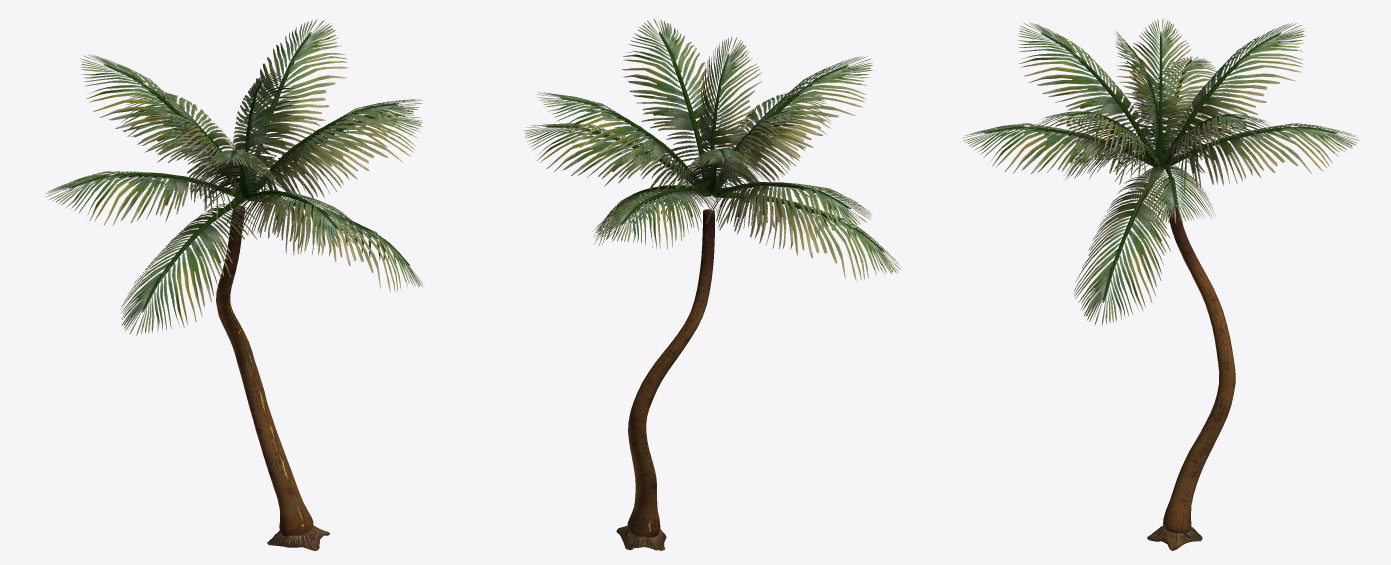
Rendered from Tree2.obj.
The picture shows the model from 3 angles, left to right: view 1: azimuth 30°, elevation 25°; view 2: azimuth 150°, elevation 25°; view 3: azimuth 270°, elevation 25°; orthographic projection. The views are drawn at different scales.
Visible parts, largest first — view 1: Coconut; view 2: Coconut; view 3: Coconut.
Boxes of the visible parts, box(x1,y1,x2,y2) form: Coconut: box(45, 19, 423, 550); Coconut: box(523, 18, 900, 550); Coconut: box(962, 18, 1359, 550).
Size of the model in its own units: 30.44 by 37 by 29.94.
1 material, 1 textured.
